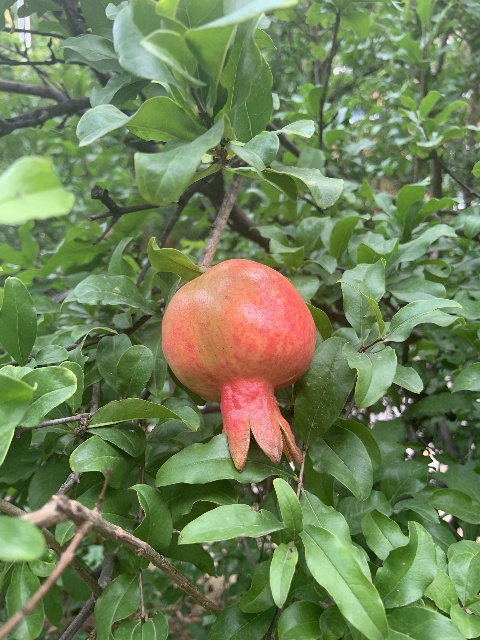ripe: (160, 259, 317, 472)
